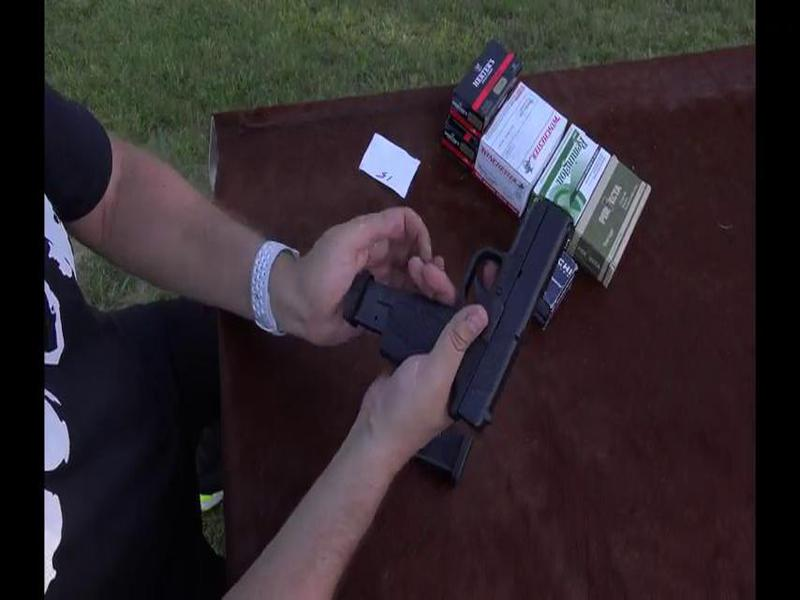Pistola: (340, 169, 577, 462)
